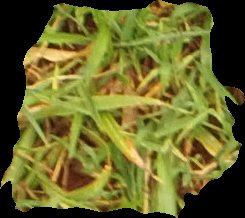grass: (1, 1, 242, 216)
